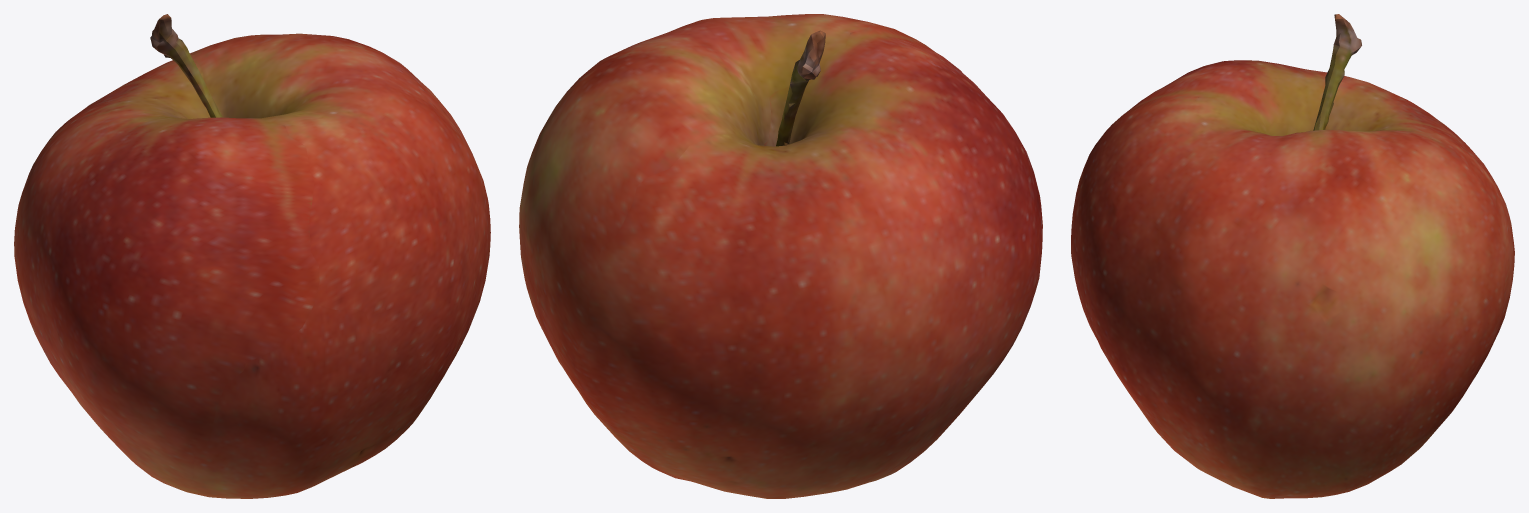
File: apple.glb
The picture shows the model from 3 angles, left to right: view 1: azimuth 30°, elevation 25°; view 2: azimuth 150°, elevation 25°; view 3: azimuth 270°, elevation 25°; orthographic projection. The views are drawn at different scales.
Visible parts, largest first — view 1: apple_meshShape_0; view 2: apple_meshShape_0; view 3: apple_meshShape_0.
Part boxes in pixels (box(x1,y1,x2,y2)): apple_meshShape_0: box(14, 14, 490, 498); apple_meshShape_0: box(519, 14, 1042, 498); apple_meshShape_0: box(1071, 14, 1514, 498).
Bounding box in the file's own units: 0.0234 × 0.0238 × 0.0229.
Materials: 1 (1 with a texture image).
